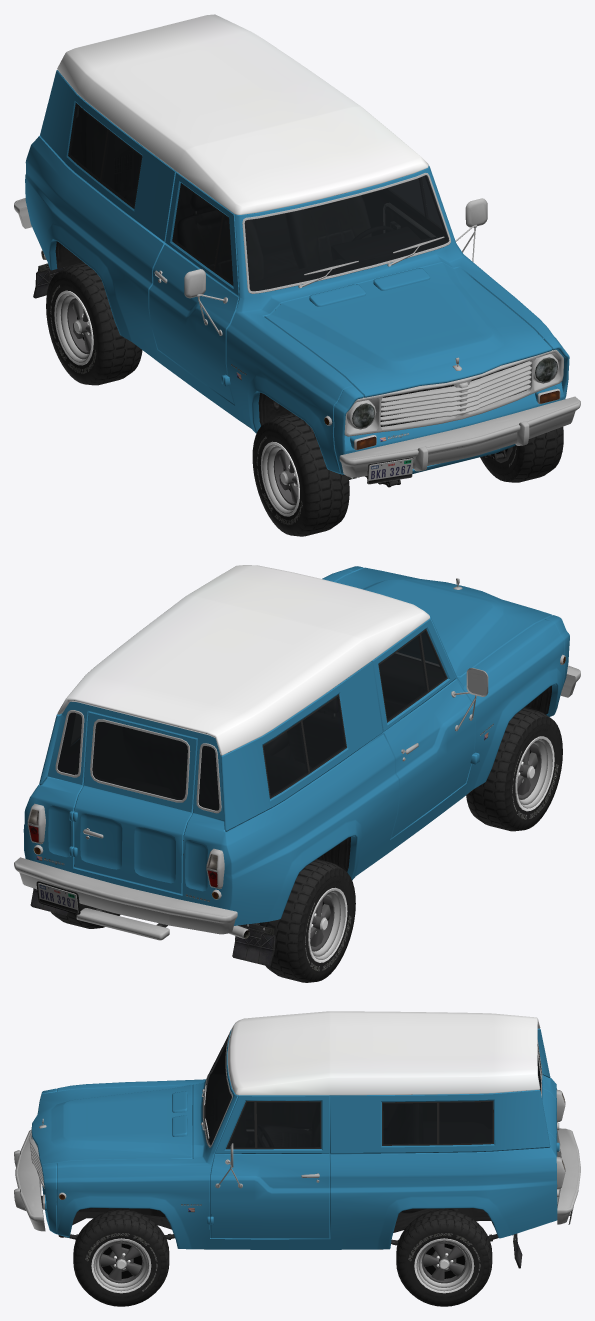
The model's file is bokaroo-67-low-poly-model-22015d.glb.
The picture shows the model from 3 angles, top to bottom: view 1: azimuth 30°, elevation 25°; view 2: azimuth 150°, elevation 25°; view 3: azimuth 270°, elevation 25°; orthographic projection. The views are drawn at different scales.
Visible parts, largest first — view 1: body, wheel-front-right, wheel-back-right, wheel-front-left; view 2: body, wheel-back-right, wheel-front-right; view 3: body, wheel-back-left, wheel-front-left.
Part boxes in pixels (x1,y1,x2,y2): body: (14, 14, 580, 487); wheel-front-right: (252, 413, 349, 536); wheel-back-right: (46, 262, 142, 385); wheel-front-left: (480, 427, 563, 482); body: (14, 565, 580, 966); wheel-back-right: (259, 859, 355, 982); wheel-front-right: (466, 707, 562, 831); body: (14, 1011, 580, 1268); wheel-back-left: (396, 1209, 492, 1306); wheel-front-left: (73, 1209, 169, 1306).
Size of the model in its own units: 2.21 by 1.96 by 4.59.
8 materials, 7 textured.
